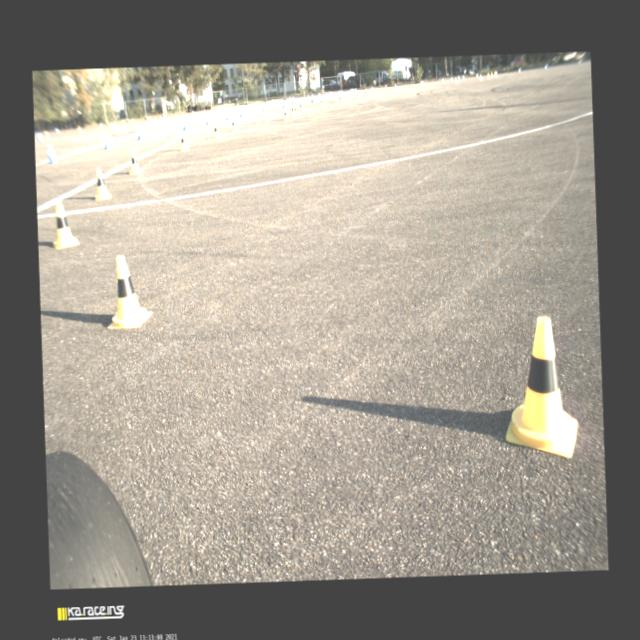blue_cone: (46, 144, 58, 164), (102, 134, 112, 150), (138, 126, 144, 140), (204, 114, 210, 124), (182, 119, 187, 130), (224, 110, 228, 120), (238, 108, 242, 116), (310, 93, 314, 101), (290, 96, 294, 104), (114, 124, 118, 132), (264, 101, 268, 108), (154, 116, 157, 125), (298, 98, 302, 104), (282, 100, 285, 108), (99, 122, 103, 128), (200, 111, 203, 118), (456, 75, 459, 81), (441, 77, 444, 83), (394, 82, 397, 88), (262, 104, 264, 112), (349, 88, 352, 93), (544, 64, 547, 69), (476, 72, 478, 78), (462, 74, 464, 80), (450, 76, 452, 82), (420, 80, 422, 86), (371, 86, 374, 90), (352, 87, 354, 93), (338, 90, 340, 94), (192, 110, 194, 114), (518, 68, 520, 72)
yellow_cone: (502, 315, 578, 459), (106, 254, 152, 328), (52, 202, 79, 248), (94, 167, 112, 200), (128, 150, 142, 173), (179, 132, 189, 150), (213, 122, 221, 138), (230, 117, 237, 132), (283, 108, 289, 120), (290, 105, 294, 115), (298, 102, 302, 110), (356, 91, 360, 99), (320, 98, 324, 105), (77, 125, 81, 132), (148, 115, 152, 122), (339, 94, 342, 102), (364, 90, 368, 96), (384, 84, 388, 90), (122, 119, 126, 125), (454, 76, 457, 84), (479, 73, 482, 81), (354, 87, 357, 94), (490, 71, 493, 78), (160, 115, 162, 124), (340, 90, 343, 96), (486, 72, 489, 78), (110, 122, 112, 130), (494, 70, 496, 77), (202, 110, 205, 114), (232, 106, 234, 112), (329, 92, 332, 96), (422, 80, 424, 86), (181, 111, 183, 116), (273, 100, 275, 105), (210, 107, 212, 111), (306, 94, 308, 98), (318, 92, 320, 96), (324, 92, 326, 95)
